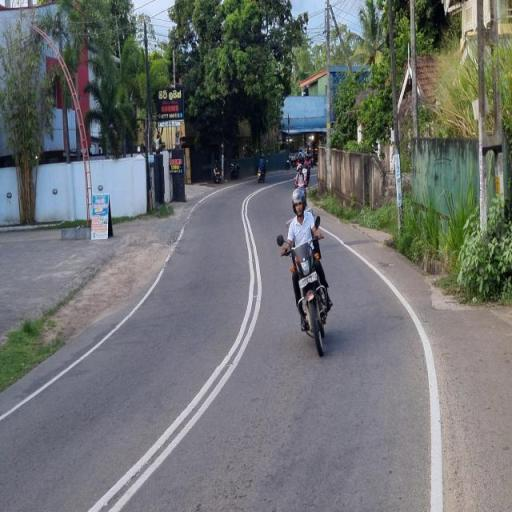double_white_line: (84, 208, 262, 510)
